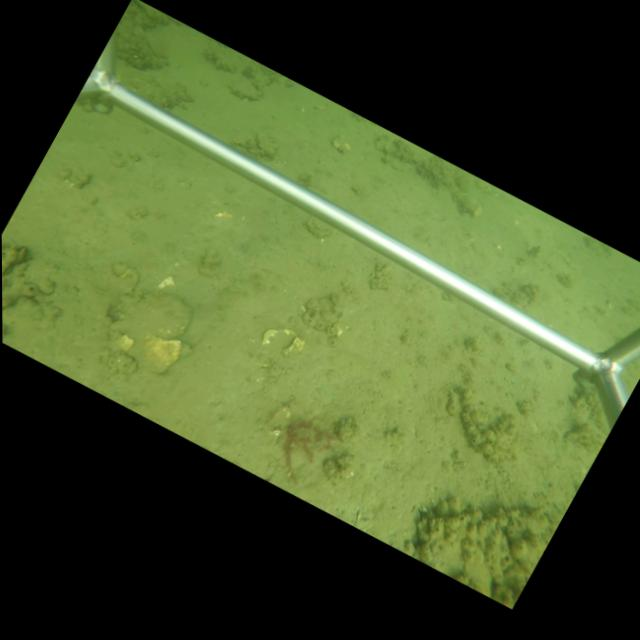Oyster-Closed: (254, 129, 277, 158)
Oyster-Indeterminate: (110, 293, 194, 375)
